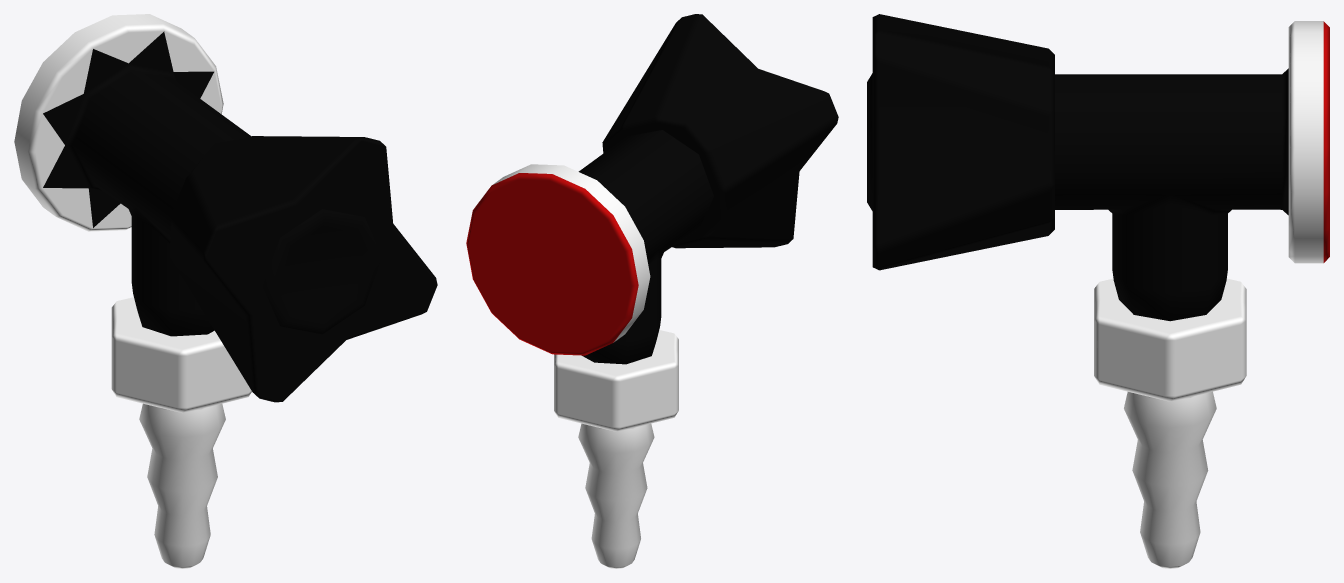
File: WallBenchPart01.fbx
3 renders of one model, left to right at view 1: azimuth 30°, elevation 25°; view 2: azimuth 150°, elevation 25°; view 3: azimuth 270°, elevation 25°, orthographic. The views are drawn at different scales.
Parts seen in each view (by area): view 1: WallBenchPart01; view 2: WallBenchPart01; view 3: WallBenchPart01.
Part boxes in pixels (x1,y1,x2,y2): WallBenchPart01: (14,14,437,568); WallBenchPart01: (466,14,838,568); WallBenchPart01: (867,14,1329,568).
Size of the model in its own units: 4.52 by 7.25 by 9.54.
